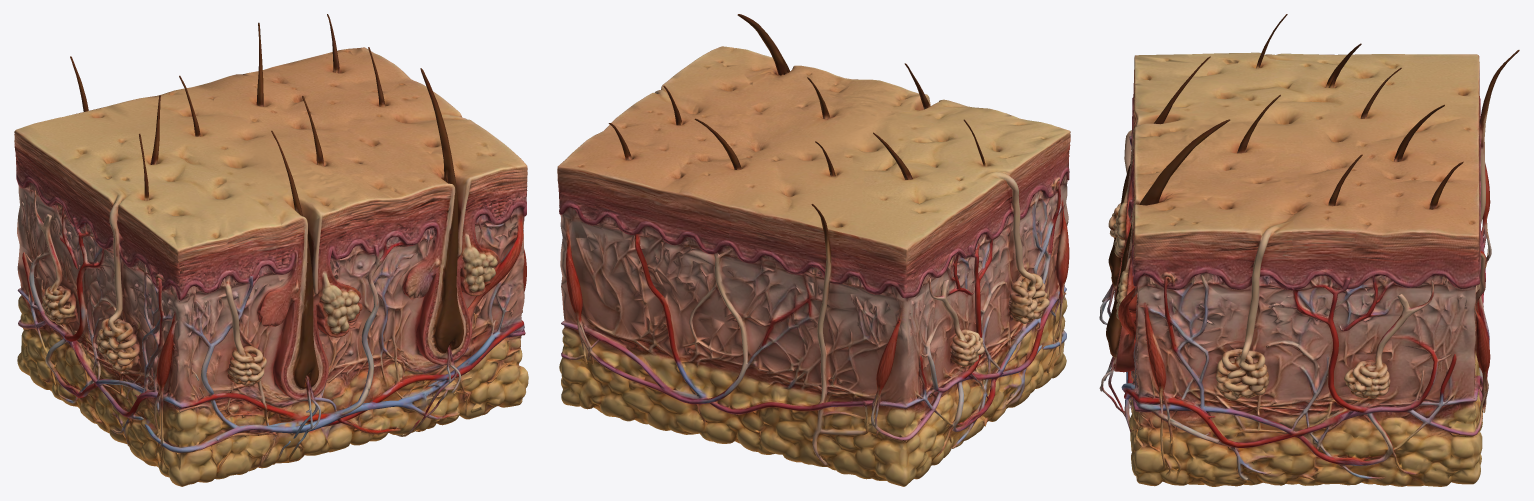
Rendered from skin.glb.
The picture shows the model from 3 angles, left to right: view 1: azimuth 30°, elevation 25°; view 2: azimuth 150°, elevation 25°; view 3: azimuth 270°, elevation 25°; orthographic projection. The views are drawn at different scales.
Parts seen in each view (by area): view 1: tripo_node_e5876caf-7f3d-4121-9468-4d7c567ae73f; view 2: tripo_node_e5876caf-7f3d-4121-9468-4d7c567ae73f; view 3: tripo_node_e5876caf-7f3d-4121-9468-4d7c567ae73f.
Part boxes in pixels (box(x1,y1,x2,y2)): tripo_node_e5876caf-7f3d-4121-9468-4d7c567ae73f: box(14, 14, 528, 486); tripo_node_e5876caf-7f3d-4121-9468-4d7c567ae73f: box(557, 14, 1070, 486); tripo_node_e5876caf-7f3d-4121-9468-4d7c567ae73f: box(1099, 14, 1519, 486).
Size of the model in its own units: 0.9793 by 0.7726 by 0.8529.
1 material, 1 textured.
